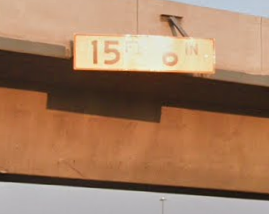1: (88, 35, 100, 65)
5: (101, 38, 121, 66)
6: (159, 38, 181, 69)
overheadsign: (71, 32, 216, 74)
